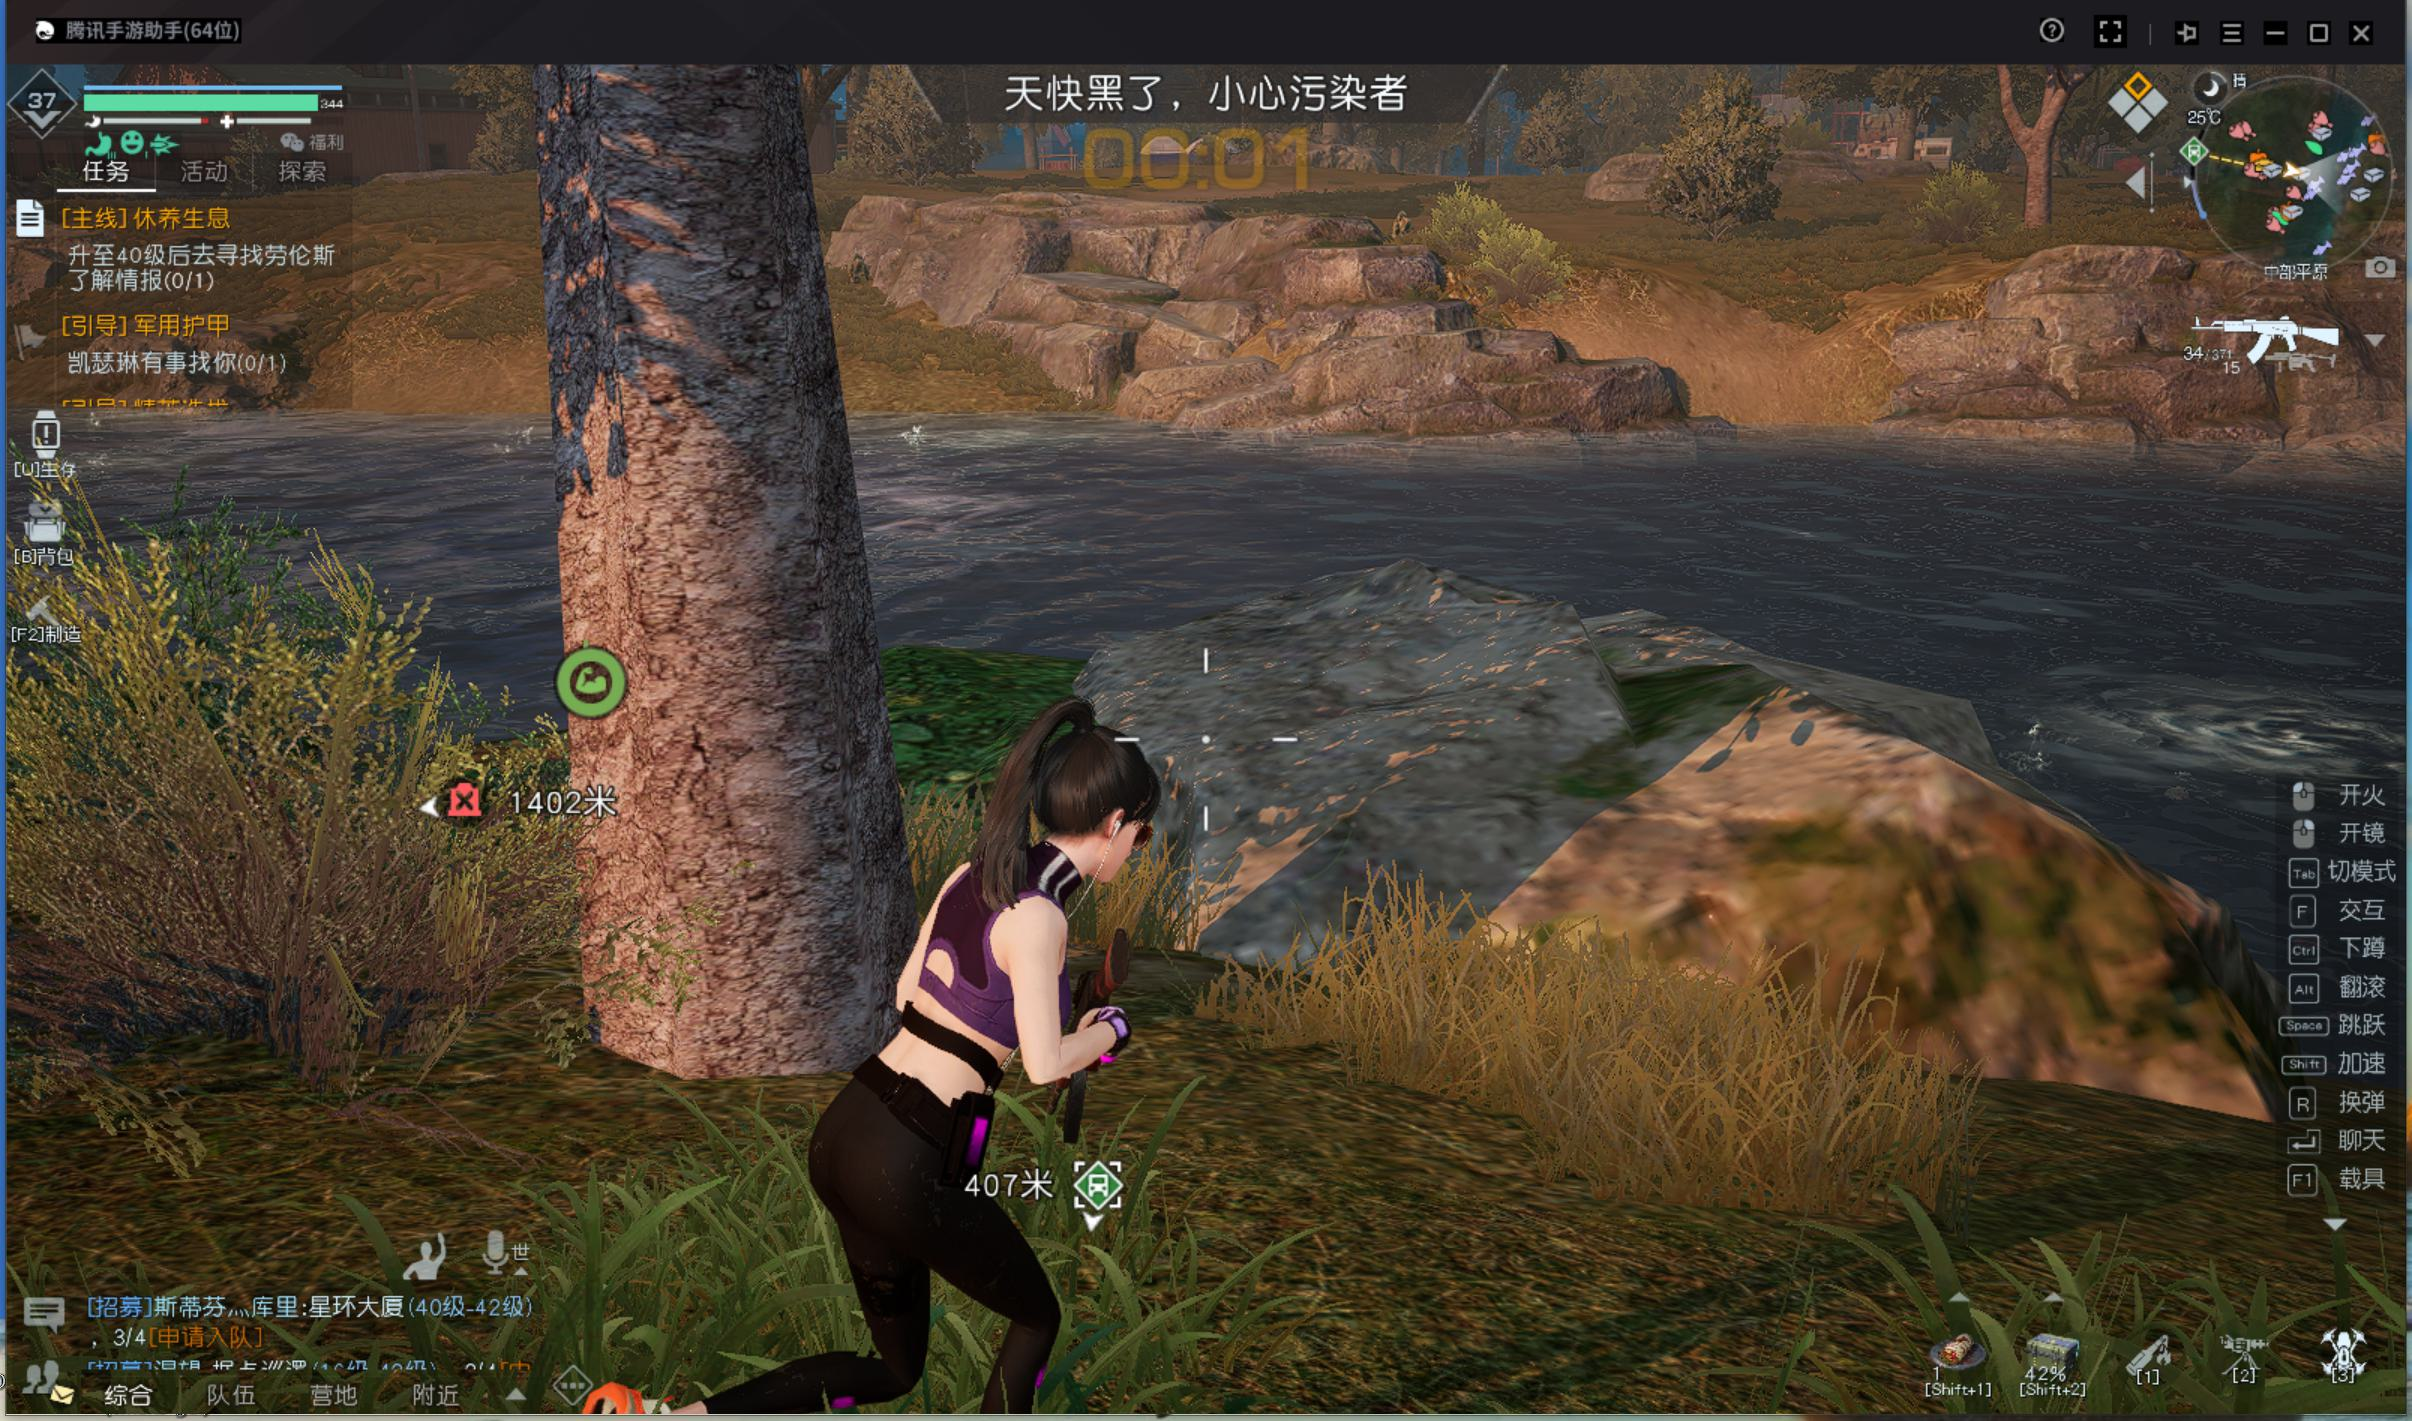tree: (516, 227, 915, 952), (1999, 125, 2069, 250)
